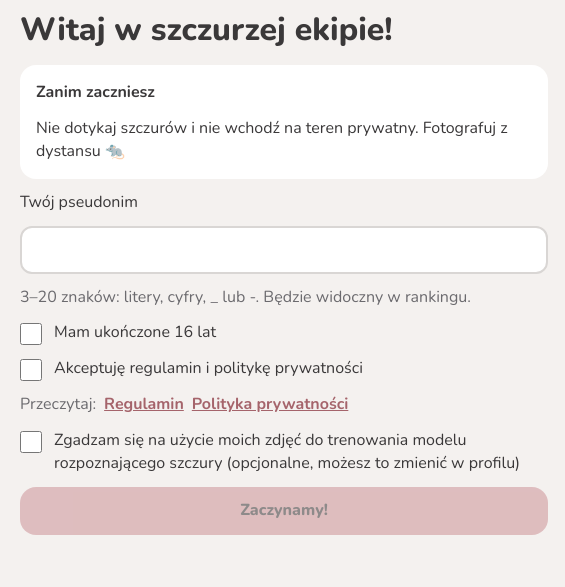
Test case: informuje o zajętym pseudonimie
Step 1. Type "Szczurek" into the field labelled "Twój pseudonim" → (284, 250), box [20,226,548,274]
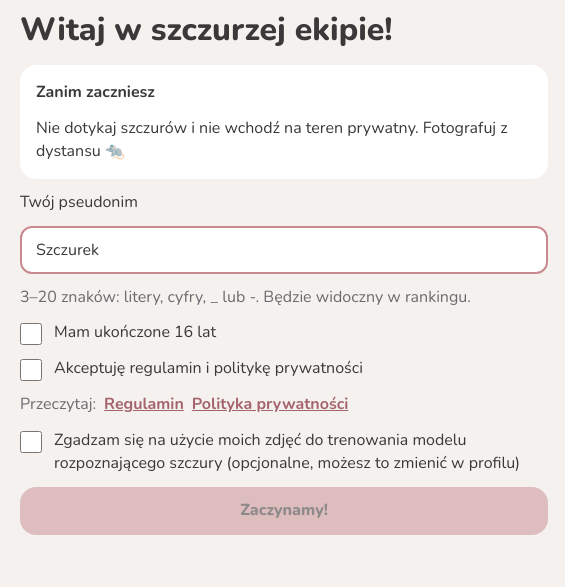
Step 2. Click the checkbox labelled "Mam ukończone 16 lat" → (31, 334), box [20,323,42,345]
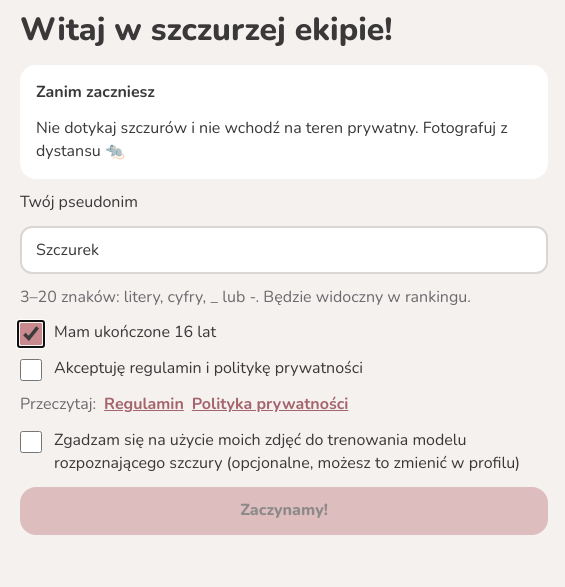
Step 3. Click the checkbox labelled "Akceptuję regulamin i politykę prywatności" → (31, 370), box [20,359,42,381]
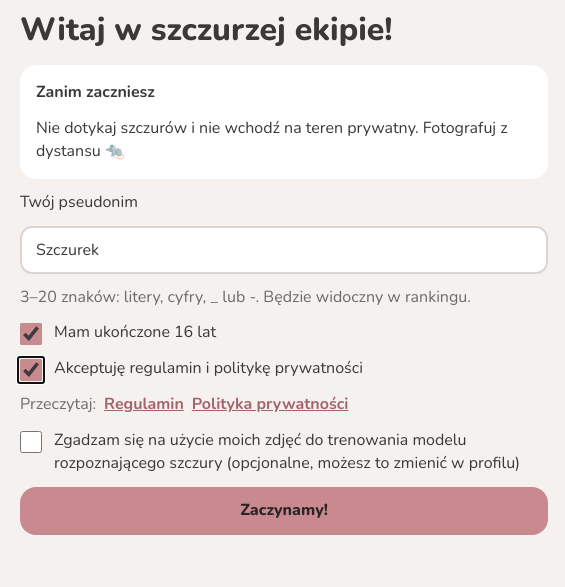
Step 4. Click the button "Zaczynamy!" → (284, 511), box [20,487,548,535]
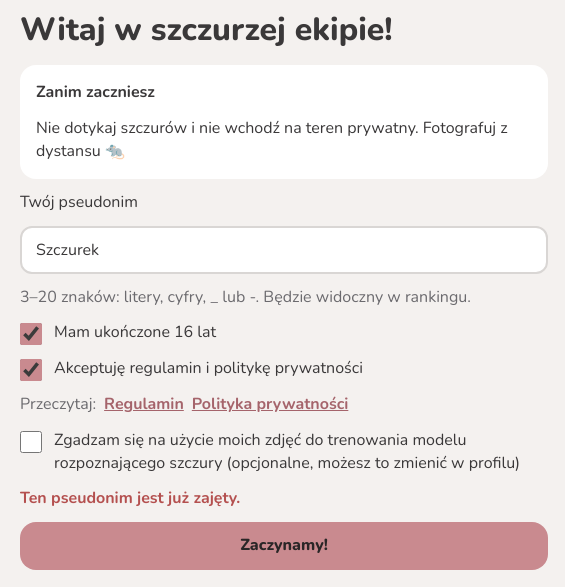
Check: the message reads "Ten pseudonim jest już zajęty.", box [20,487,240,509]
